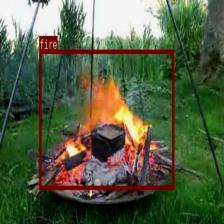fire: (39, 49, 174, 189)
